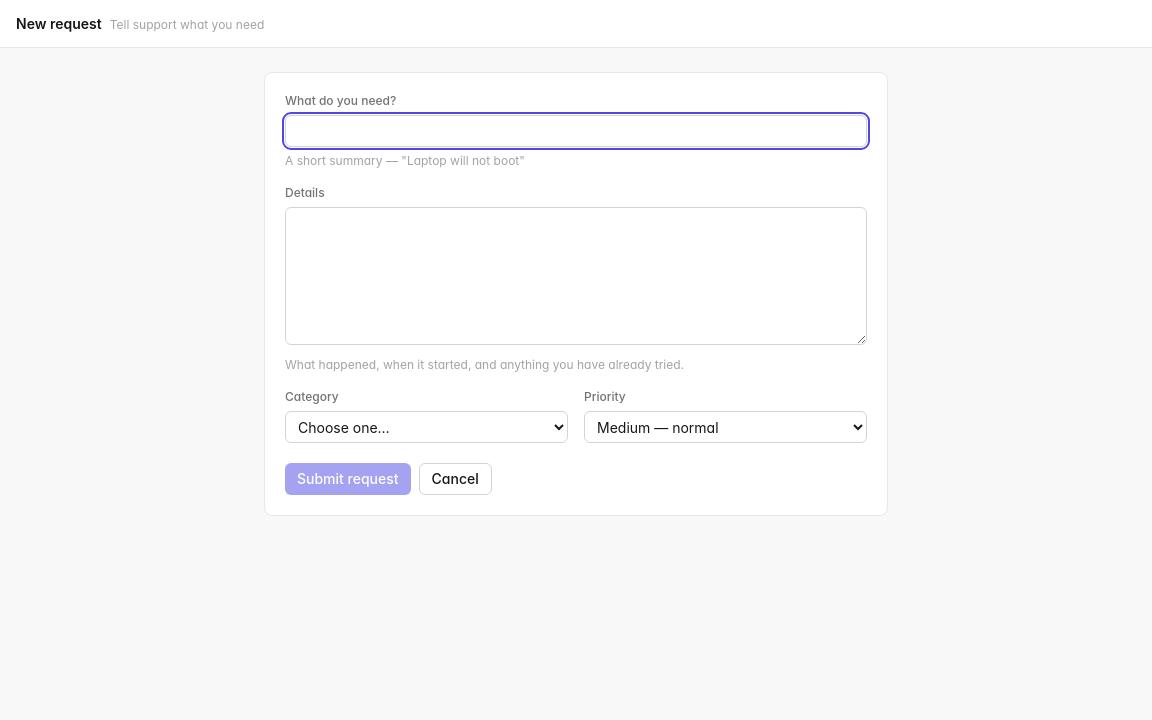
Test case: when the API rejects the submission › puts each message against the field it blames
This screenshot has width=1152, height=720.
Type "Laptop will not boot" into the field labelled "What do you need?". click: coordinates (576, 131)
box: [285, 115, 867, 147]
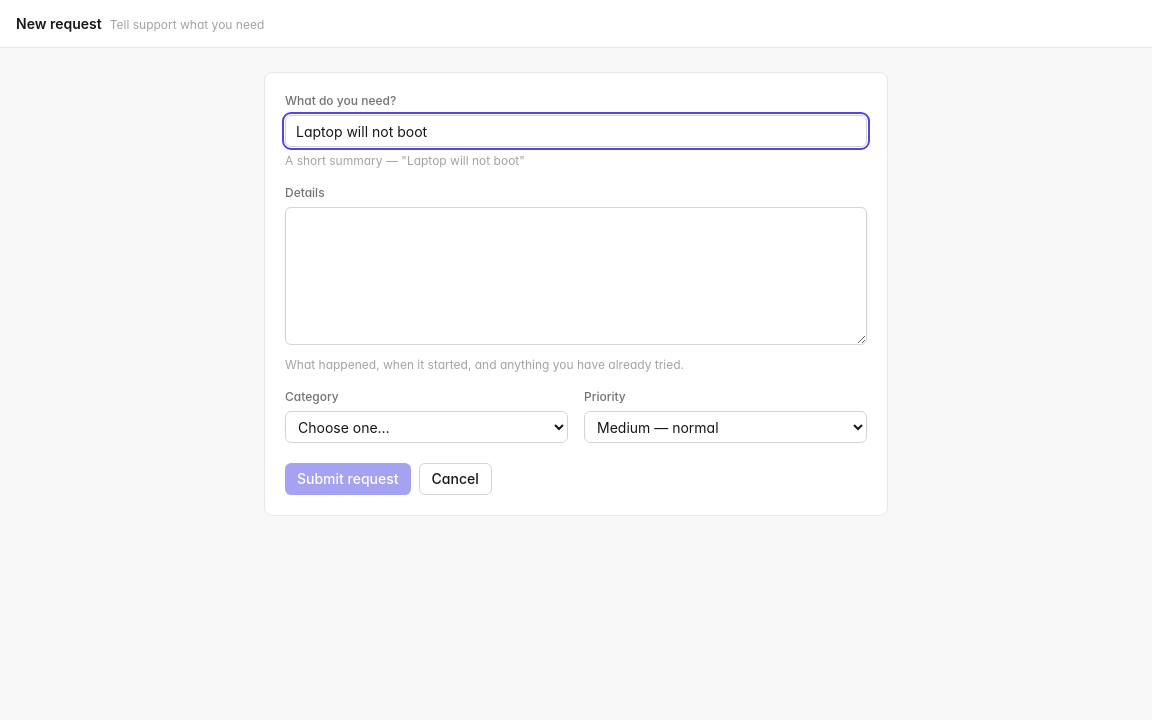
Type "It powers on, shows the logo, then restarts in a loop." into the text box labelled "Details". click: coordinates (576, 276)
box: [285, 207, 867, 345]
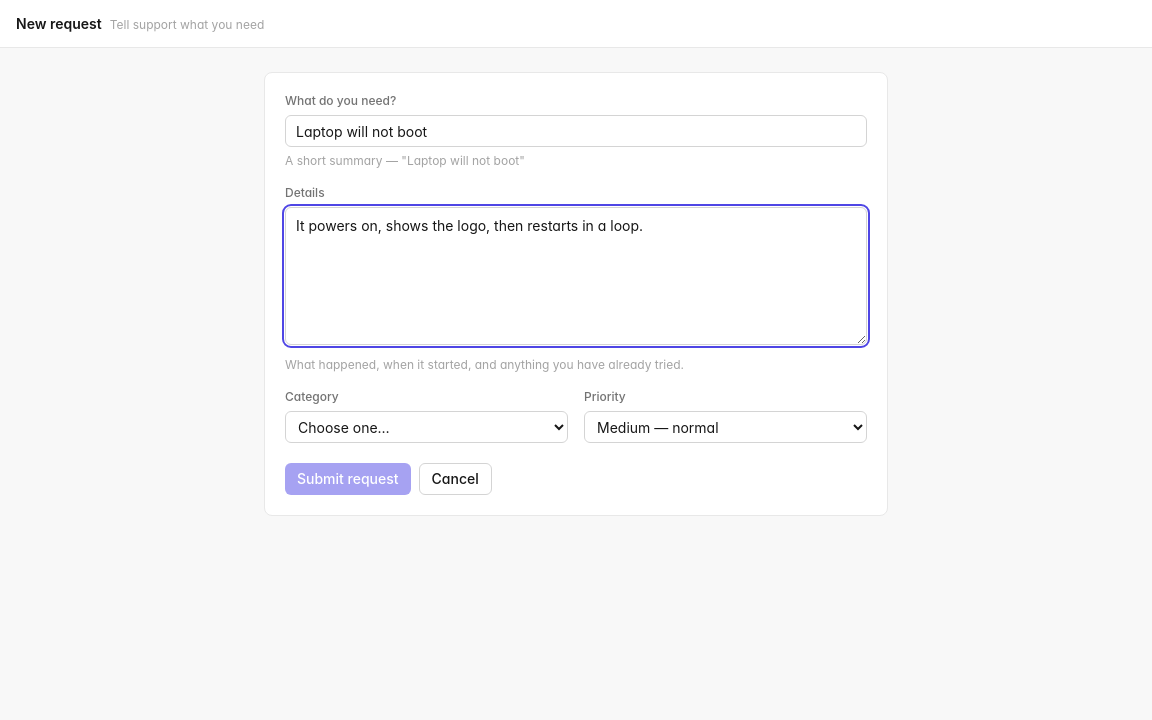
Select "IT — laptops, software, accounts, network" in the dropdown labelled "Category". click: coordinates (426, 427)
box: [285, 411, 568, 443]
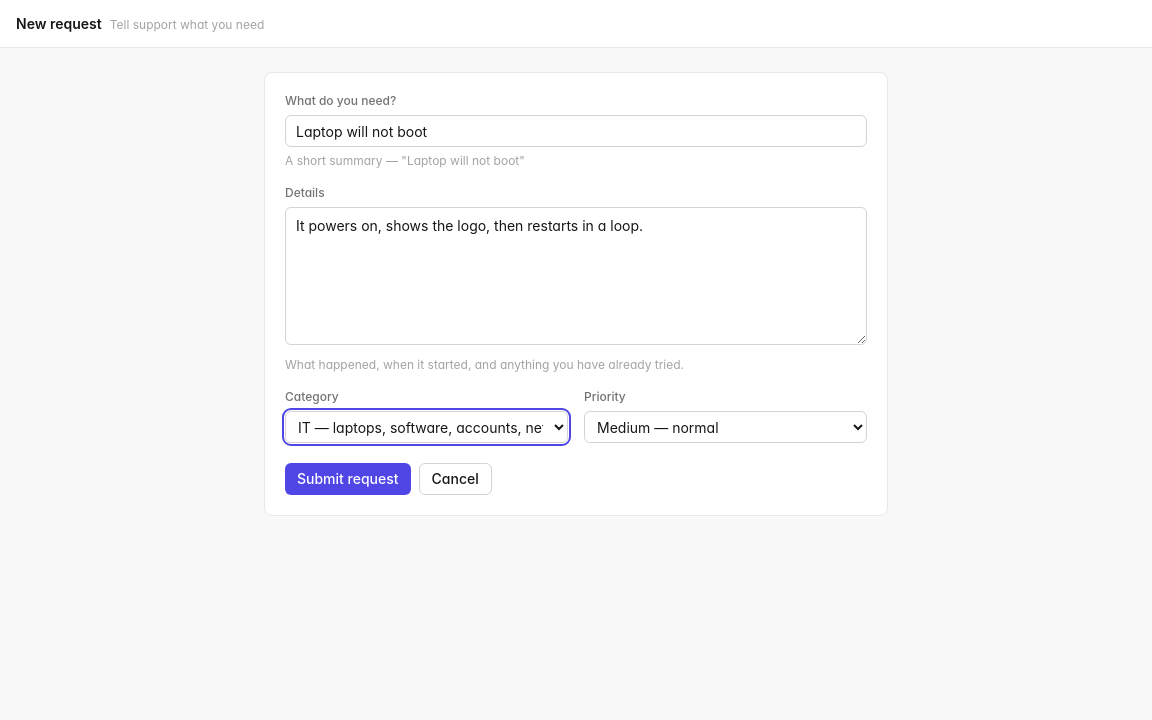
Click the button "Submit request". click: coordinates (348, 479)
box: [285, 463, 411, 495]
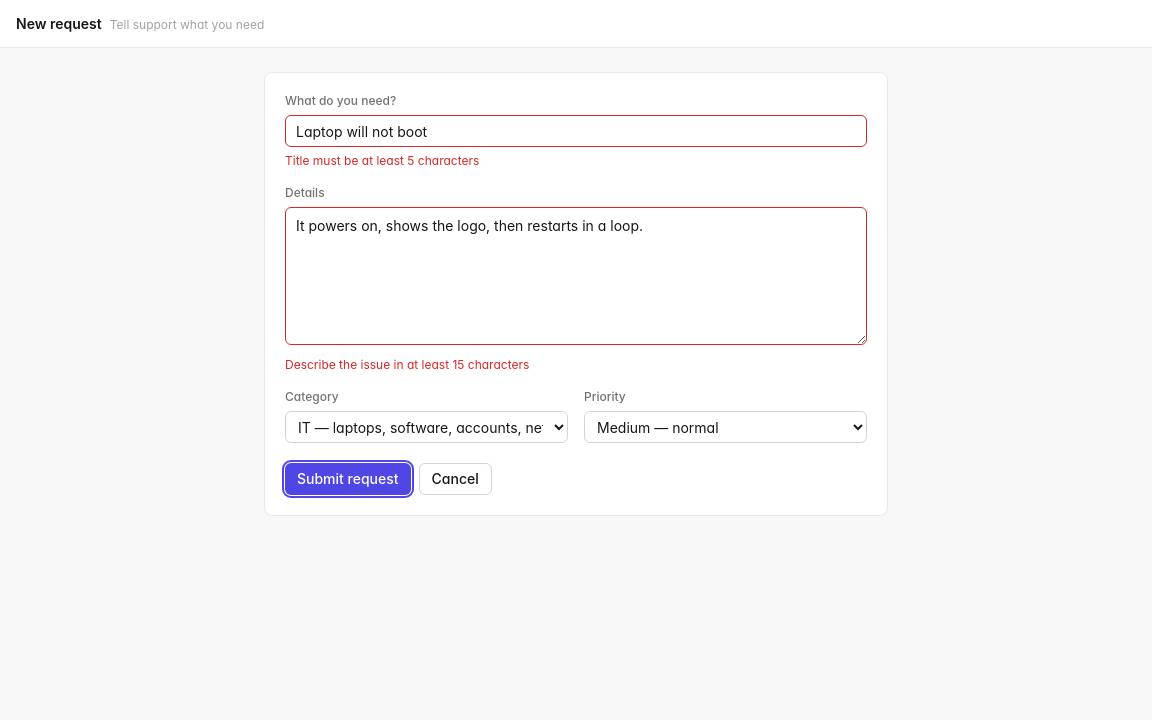
Expected: the text "Title must be at least 5 characters" is shown, [285, 153, 479, 168]
Expected: the text "Describe the issue in at least 15 characters" is shown, [285, 357, 529, 372]
